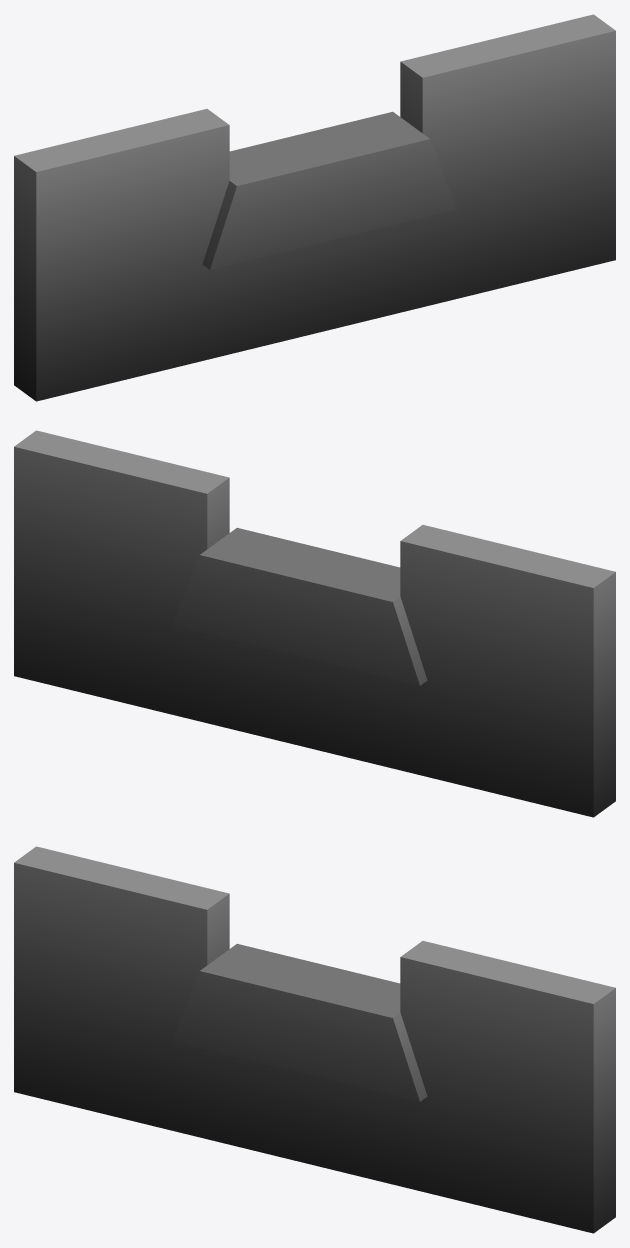
The model's file is PagerK4.fbx.
3 views of the same model, one above another, from view 1: azimuth 30°, elevation 25°; view 2: azimuth 150°, elevation 25°; view 3: azimuth 330°, elevation 25° (orthographic).
Parts seen in each view (by area): view 1: PagerK4_LOD0; view 2: PagerK4_LOD0; view 3: PagerK4_LOD0.
Part boxes in pixels (<box>): PagerK4_LOD0: <box>14,14,615,401</box>; PagerK4_LOD0: <box>14,430,615,817</box>; PagerK4_LOD0: <box>14,846,615,1233</box>.
Size of what is drawn, in the model's own units: 379 by 143 by 42.28.
